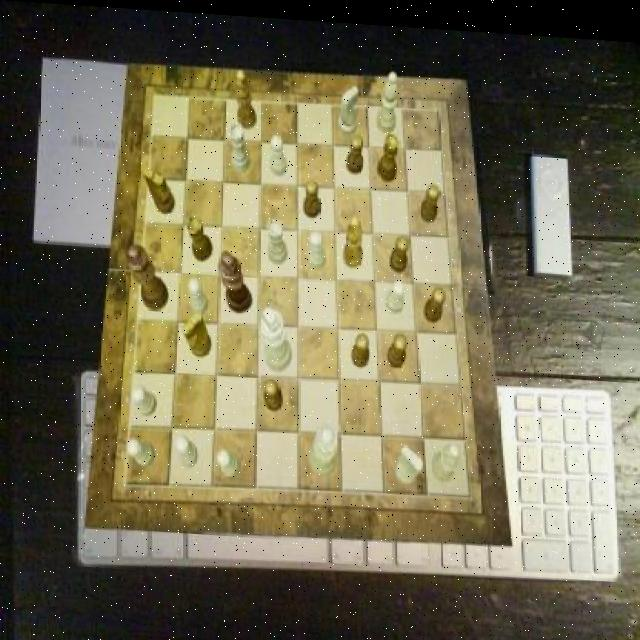bishop: (236, 66, 256, 126), (344, 209, 364, 264)
black-bishop: (218, 248, 254, 312)
black-king: (143, 166, 175, 213), (182, 308, 212, 355)
black-knight: (425, 281, 447, 317), (420, 177, 440, 216), (388, 328, 408, 364), (304, 176, 322, 215), (264, 375, 284, 409), (391, 230, 408, 268), (352, 328, 370, 363), (348, 129, 364, 168)
black-pawn: (126, 242, 169, 310)
black-queen: (188, 213, 214, 260), (377, 129, 399, 178)
black-rook: (377, 65, 398, 128), (432, 436, 460, 476)
white-bishop: (258, 301, 292, 369)
white-king: (395, 439, 423, 481), (338, 79, 358, 131)
white-knight: (132, 384, 157, 416), (128, 437, 155, 466), (270, 131, 288, 173), (176, 434, 198, 468), (188, 276, 208, 313), (386, 274, 406, 309), (217, 445, 240, 474), (308, 227, 325, 266)
white-pawn: (310, 418, 338, 473)
white-queen: (230, 120, 252, 170), (268, 215, 288, 262)
